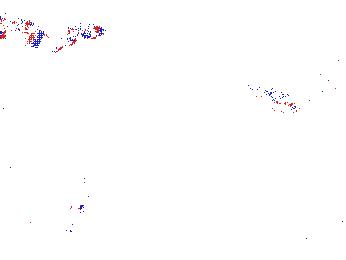glassfish: (66, 153, 107, 237)
red belly glassfish: (247, 84, 301, 114), (304, 81, 346, 96)
redtail glassfish: (31, 22, 107, 45), (1, 13, 39, 37)
